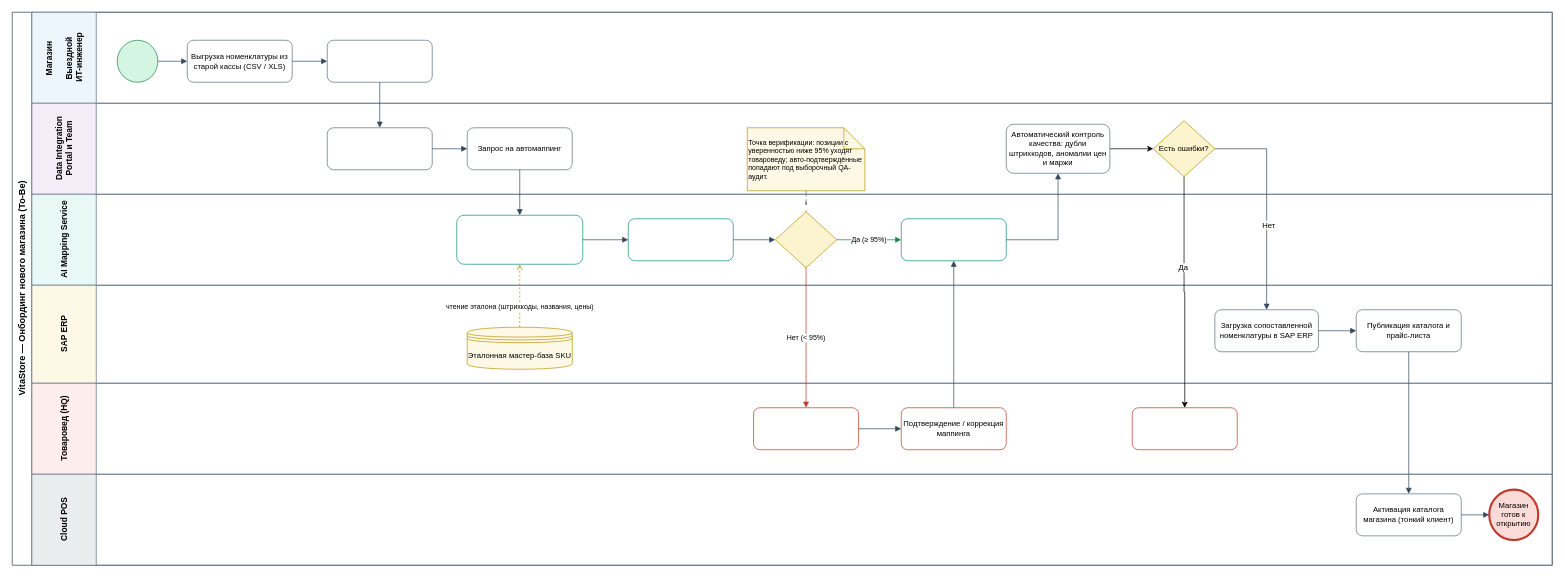
Some shapes in this 1565 by 578 pixel diagram are drawn without their labels. Here are the shapes that lost their labels. From the top down, the centre of each, then its label:
the point at 137,61: Сделка M&A закрыта
the point at 379,61: Загрузка дампа в Data Integration Portal
the point at 379,148: Валидация и нормализация файла
the point at 519,239: Автомаппинг SKU: точное сопоставление по штрихкодам + AI-семантика по названиям
the point at 680,239: Расчёт confidence-score по каждой позиции
the point at 806,239: confidence ≥ 95% ?
the point at 953,239: Отправка данных на контроль качества
the point at 806,428: Проверка спорных позиций в UI-очереди
the point at 1184,428: Анализ и коррекция ошибочных позиций
